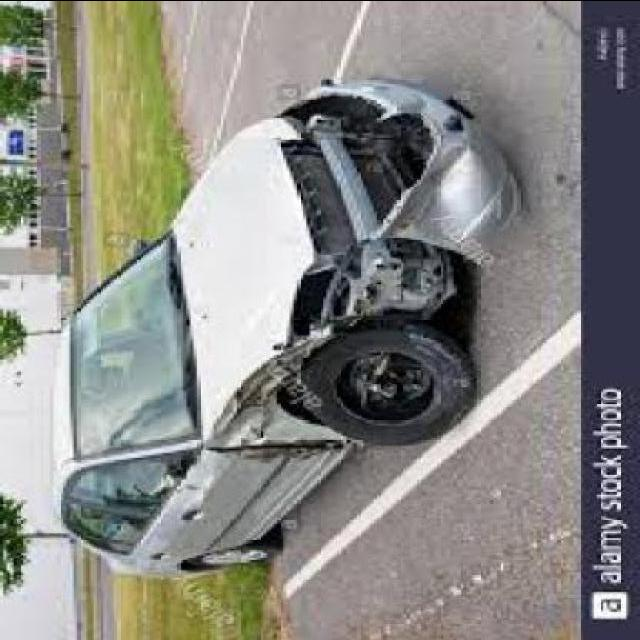doorouter-dent: (160, 444, 340, 508)
fender-dent: (211, 330, 348, 449)
front-bumper-dent: (320, 27, 524, 269)
